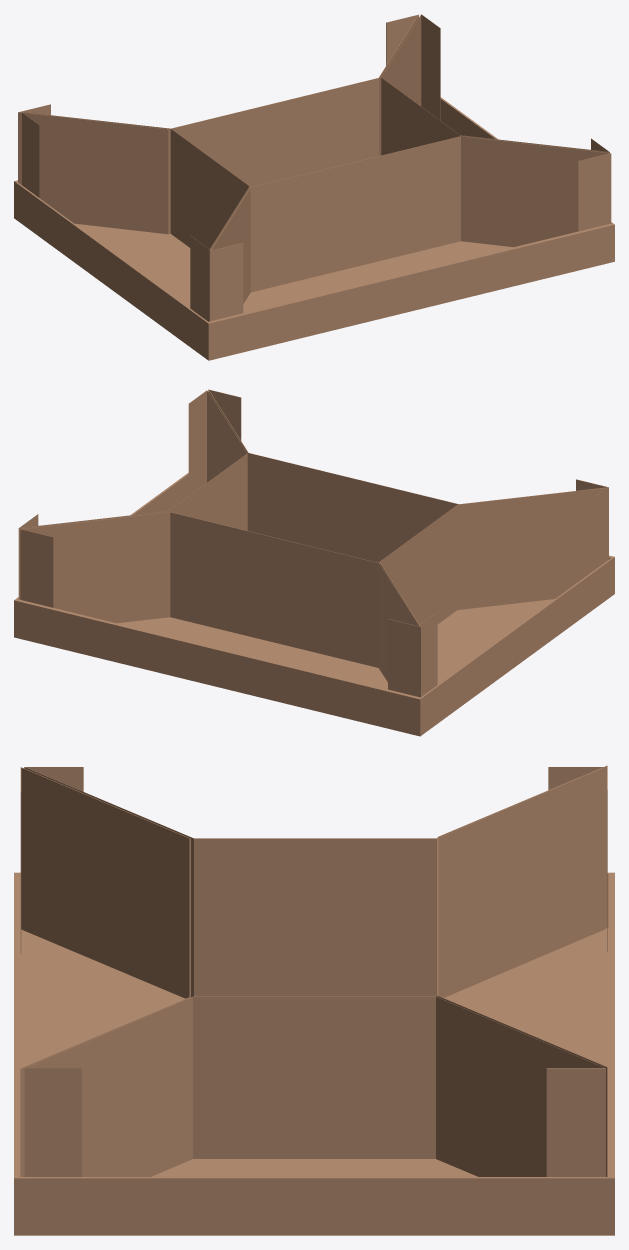
Rendered from Pallet_Tray.glb.
3 renders of one model, top to bottom at view 1: azimuth 30°, elevation 25°; view 2: azimuth 150°, elevation 25°; view 3: azimuth 270°, elevation 25°, orthographic. The views are drawn at different scales.
Parts seen in each view (by area): view 1: inserto largo, Charola, inserto largo 2, Inserto Corto.001, Inserto Corto; view 2: inserto largo 2, Charola, Inserto Corto.001, inserto largo, Inserto Corto; view 3: Inserto Corto, Inserto Corto.001, Charola, inserto largo, inserto largo 2.
Part boxes in pixels (<box>): inserto largo: <box>210,136,611,321</box>; Charola: <box>14,97,614,360</box>; inserto largo 2: <box>18,14,418,234</box>; Inserto Corto.001: <box>21,112,249,321</box>; Inserto Corto: <box>381,14,609,155</box>; inserto largo 2: <box>20,512,420,697</box>; Charola: <box>14,473,614,736</box>; Inserto Corto.001: <box>378,488,607,696</box>; inserto largo: <box>208,389,608,562</box>; Inserto Corto: <box>18,390,247,599</box>; Inserto Corto: <box>24,996,605,1176</box>; Inserto Corto.001: <box>24,767,605,997</box>; Charola: <box>14,872,614,1235</box>; inserto largo: <box>20,767,190,1176</box>; inserto largo 2: <box>437,765,607,1176</box>.
Size of the model in its own units: 1.2 by 0.3037 by 0.9966.
Materials: 1 (1 with a texture image).
